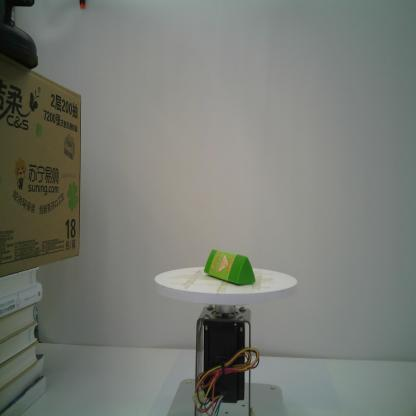Stationery: (203, 247, 256, 288)
